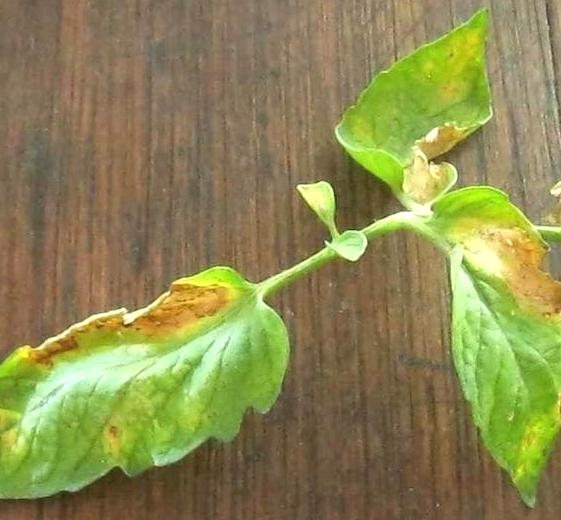Tomato Early blight leaf: (0, 268, 292, 520), (422, 172, 561, 520)
